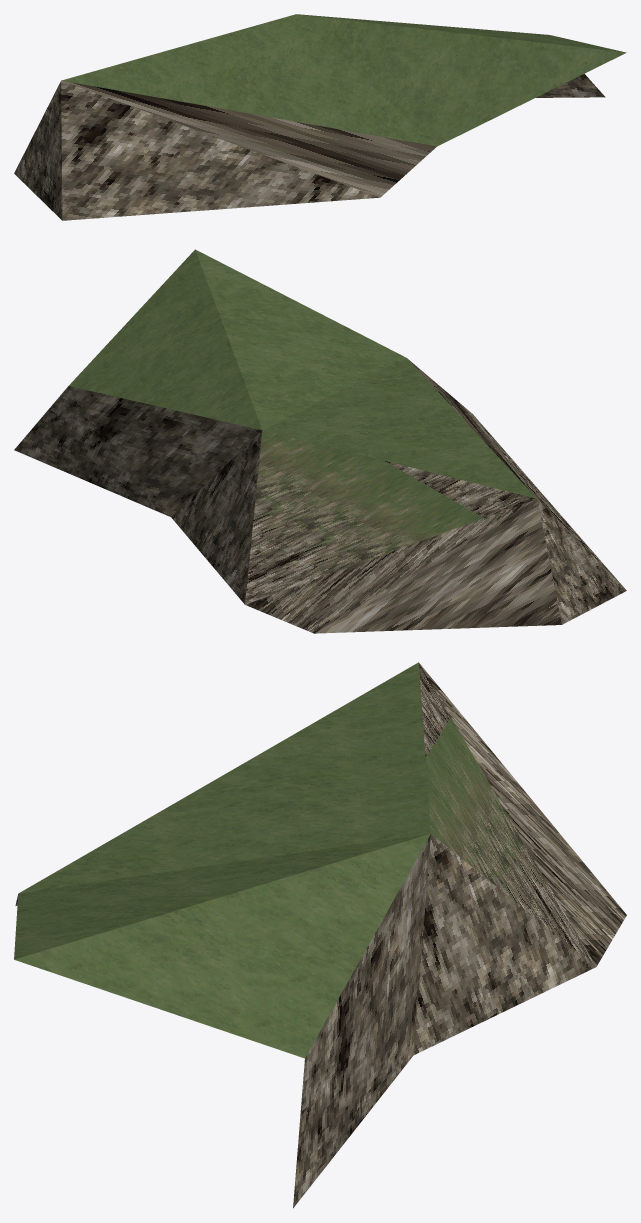
File: LODa_carisle_mid_landmass_02_00.fbx
The picture shows the model from 3 angles, top to bottom: view 1: azimuth 30°, elevation 25°; view 2: azimuth 150°, elevation 25°; view 3: azimuth 270°, elevation 25°; orthographic projection. The views are drawn at different scales.
Parts seen in each view (by area): view 1: LODa_carisle_mid_landmass_02_00; view 2: LODa_carisle_mid_landmass_02_00; view 3: LODa_carisle_mid_landmass_02_00.
Boxes of the visible parts, x1,y1,x2,y2 form: LODa_carisle_mid_landmass_02_00: (14,14,626,220); LODa_carisle_mid_landmass_02_00: (14,249,626,633); LODa_carisle_mid_landmass_02_00: (14,662,626,1208).
Size of the model in its own units: 24.28 by 15.45 by 5.47.
